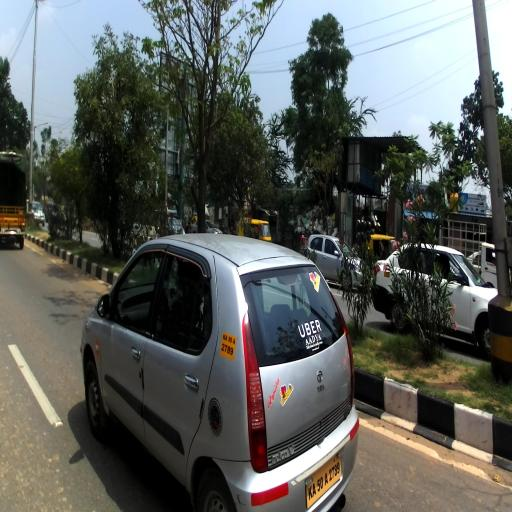street_light_0: (34, 120, 50, 134)
